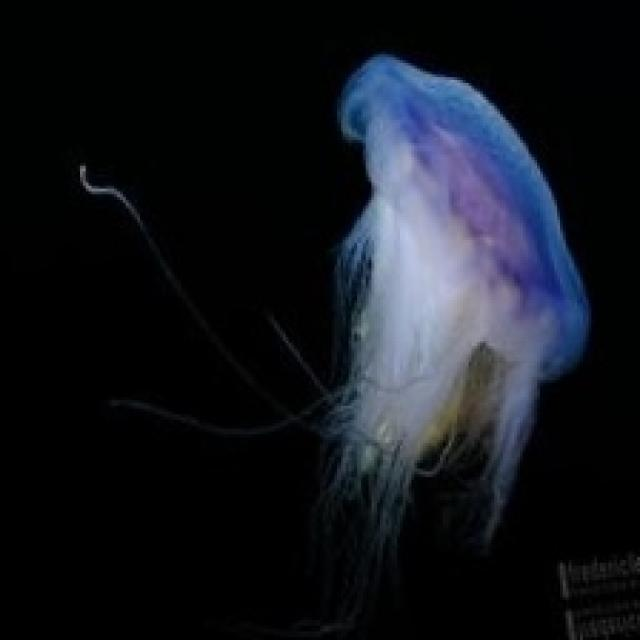Box-jellyfish: (252, 49, 591, 532)
